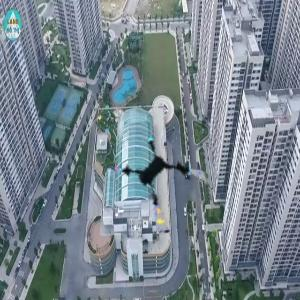drone: (115, 138, 210, 233)
